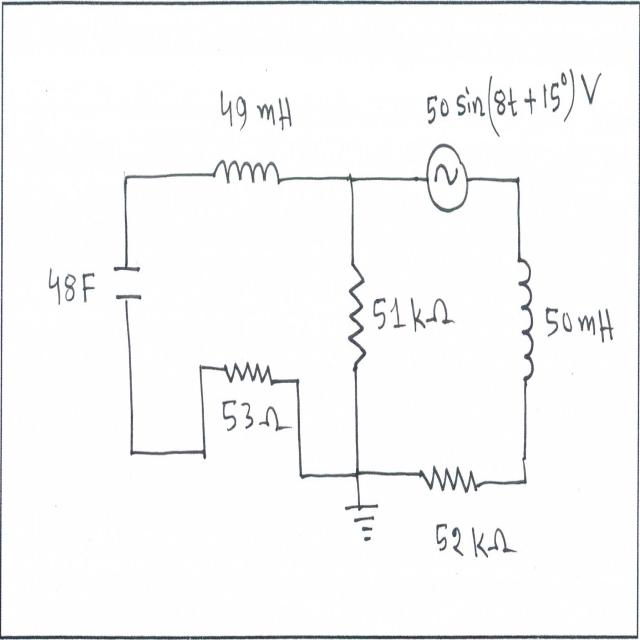ac_current: (424, 136, 469, 214)
capacitor: (110, 260, 147, 314)
ground: (343, 499, 385, 562)
inductor: (210, 149, 283, 204), (514, 245, 538, 391)
resistor: (422, 448, 483, 504), (345, 263, 368, 371), (220, 352, 278, 394)
